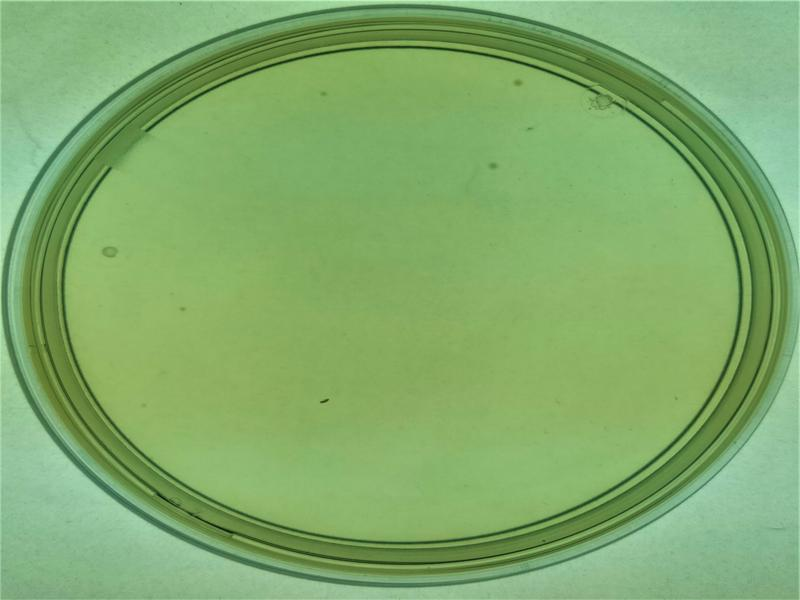colony: (165, 293, 201, 323), (477, 151, 507, 181), (309, 80, 335, 104), (509, 69, 530, 93)
